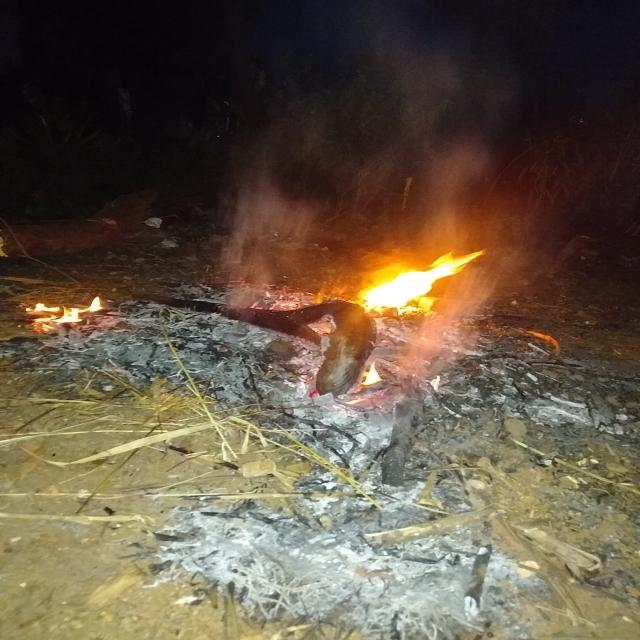firerotation: (312, 136, 494, 320), (21, 294, 105, 336), (354, 356, 381, 388)
